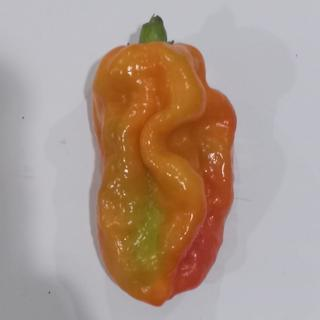Grade-A: (84, 39, 241, 307)
